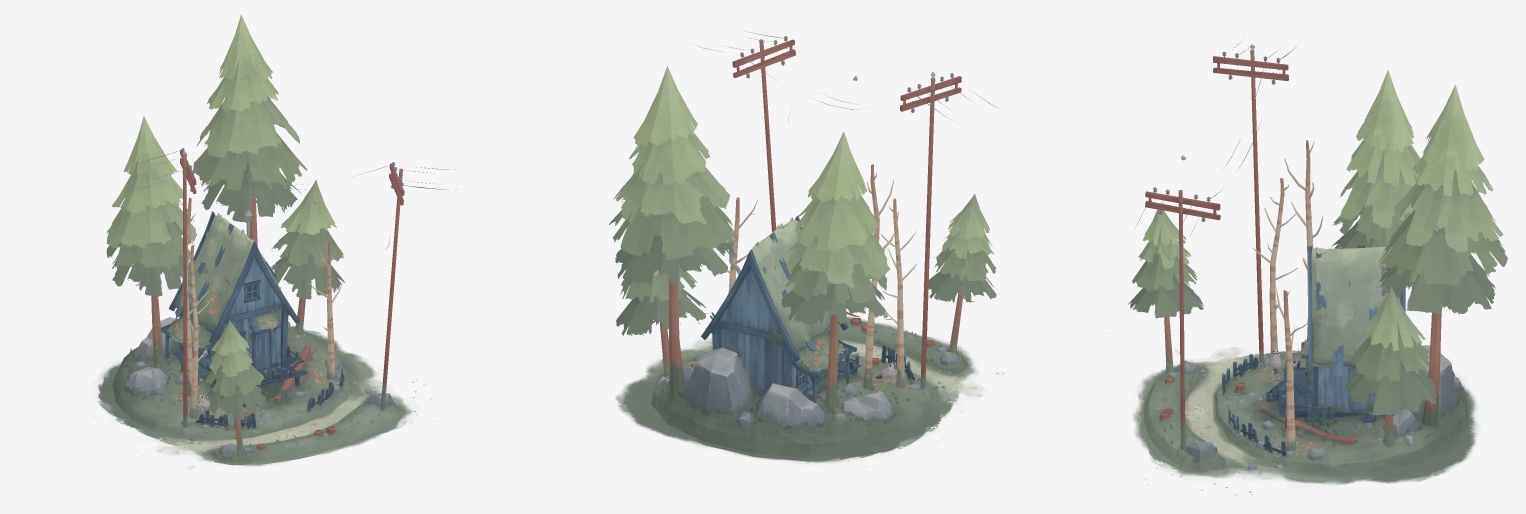
File: forest_house-v2.glb
3 renders of one model, left to right at view 1: azimuth 30°, elevation 25°; view 2: azimuth 150°, elevation 25°; view 3: azimuth 270°, elevation 25°, orthographic. The views are drawn at different scales.
Parts seen in each view (by area): view 1: RedwoodAlpha_TreeLeafs_0, Ground_Ground_0, GroundPlane_Plane_0, Chimney_RoofMoss_0, BTree_BrichTree_0, House_House_0, FenceLeft_WoodFence_0, Rocks_BigRock_0, Grass.Ground_GrassALPHA_0, HouseFence_WoodPlanks_0, SupportBeams_Window_0; view 2: RedwoodAlpha_TreeLeafs_0, Ground_Ground_0, Rocks_BigRock_0, GroundPlane_Plane_0, House_House_0, BTree_BrichTree_0, FenceLeft_WoodFence_0, Chimney_RoofMoss_0, Grass.Ground_GrassALPHA_0; view 3: RedwoodAlpha_TreeLeafs_0, Ground_Ground_0, GroundPlane_Plane_0, Chimney_RoofMoss_0, FenceLeft_WoodFence_0, BTree_BrichTree_0, Rocks_BigRock_0, House_House_0, HouseFence_WoodPlanks_0, Grass.Ground_GrassALPHA_0.
Boxes of the visible parts, x1,y1,x2,y2 form: RedwoodAlpha_TreeLeafs_0: (106,14,345,419); Ground_Ground_0: (112,325,399,465); GroundPlane_Plane_0: (73,330,445,468); Chimney_RoofMoss_0: (161,209,293,355); BTree_BrichTree_0: (135,197,342,456); House_House_0: (169,211,299,370); FenceLeft_WoodFence_0: (180,148,404,450); Rocks_BigRock_0: (124,317,394,455); Grass.Ground_GrassALPHA_0: (122,150,448,458); HouseFence_WoodPlanks_0: (173,332,308,407); SupportBeams_Window_0: (165,279,260,382); RedwoodAlpha_TreeLeafs_0: (609,66,996,335); Ground_Ground_0: (651,318,965,461); Rocks_BigRock_0: (657,323,961,433); GroundPlane_Plane_0: (615,313,1003,466); House_House_0: (701,215,848,394); BTree_BrichTree_0: (652,164,974,413); FenceLeft_WoodFence_0: (732,36,961,388); Chimney_RoofMoss_0: (727,219,856,378); Grass.Ground_GrassALPHA_0: (662,31,997,439); RedwoodAlpha_TreeLeafs_0: (1128,69,1507,415); Ground_Ground_0: (1143,352,1467,472); GroundPlane_Plane_0: (1132,339,1476,495); Chimney_RoofMoss_0: (1301,245,1401,377); FenceLeft_WoodFence_0: (1145,49,1289,456); BTree_BrichTree_0: (1164,140,1451,451); Rocks_BigRock_0: (1156,345,1462,469); House_House_0: (1308,246,1405,412); HouseFence_WoodPlanks_0: (1266,359,1394,431); Grass.Ground_GrassALPHA_0: (1135,41,1464,462).
Bounding box in the file's own units: 6.44 × 5.24 × 5.28.
Materials: 12 (12 with a texture image).
